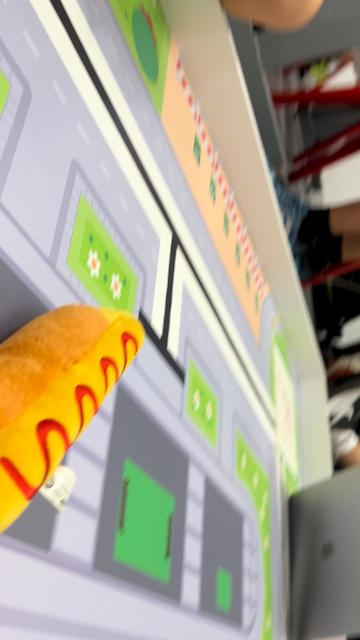hotdog: (1, 303, 147, 535)
